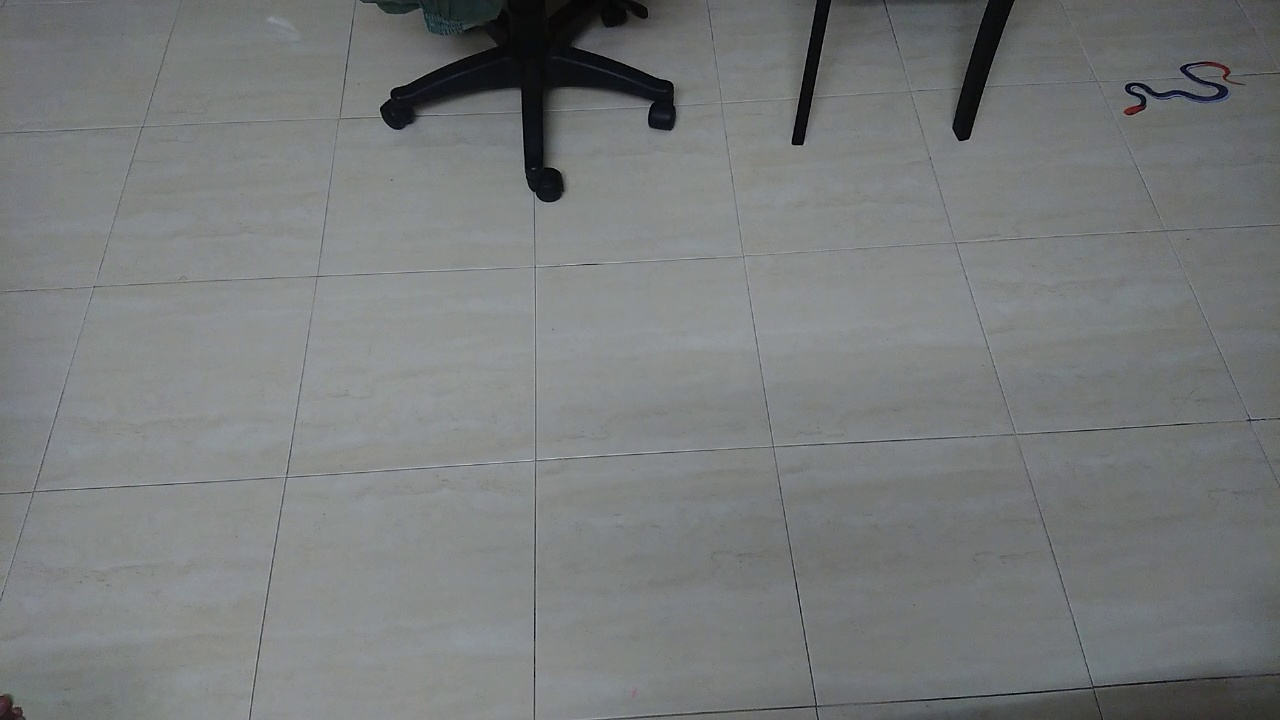snake: (1111, 48, 1259, 128)
